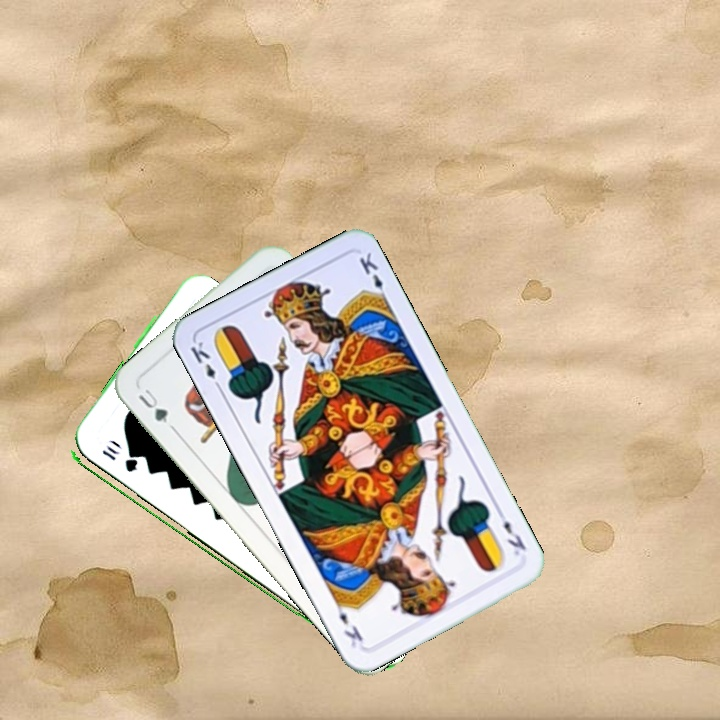EK: (186, 337, 225, 394), (492, 505, 529, 558)
G10: (97, 442, 140, 475)
GU: (134, 384, 171, 426)
